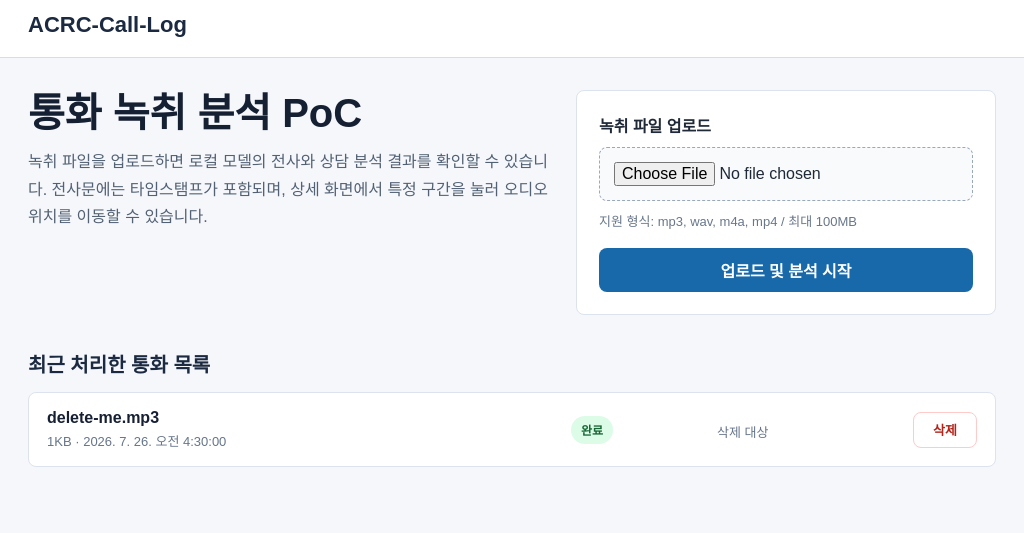
it: pages › 확인 후 기존 통화 기록을 삭제한다
The image size is (1024, 533).
Click the button with aria-label "delete-me.mp3 삭제".
click(945, 430)  # box top-left (913, 412), bottom-right (977, 448)
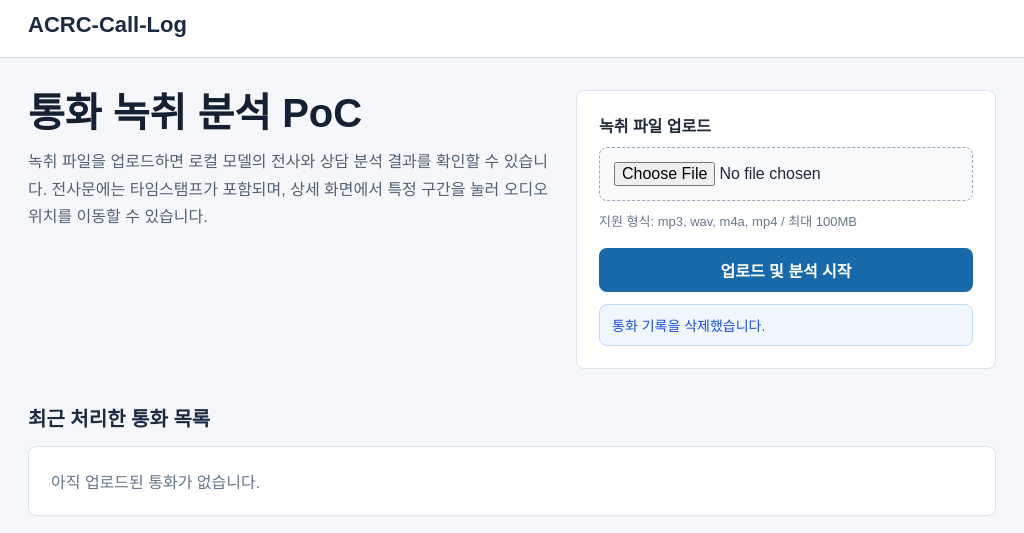
Expected: the link "delete-me.mp3" is gone
Expected: the text "통화 기록을 삭제했습니다." is shown, top-left (599, 304), bottom-right (973, 346)
